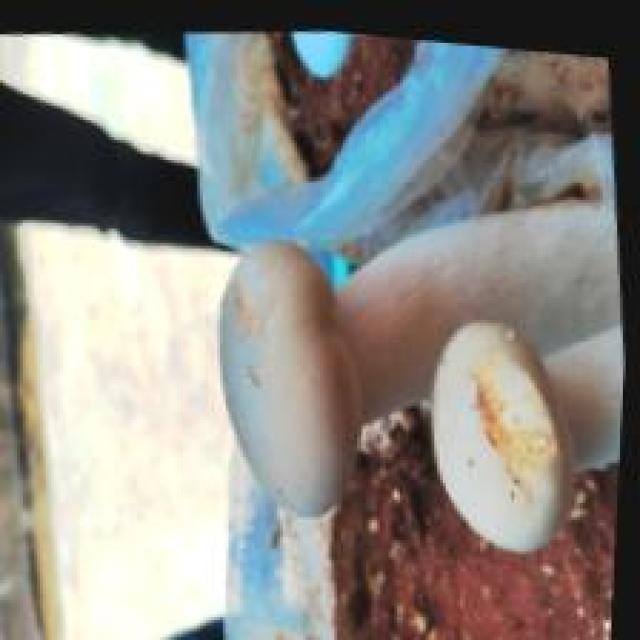chanterelle: (326, 317, 617, 637)
